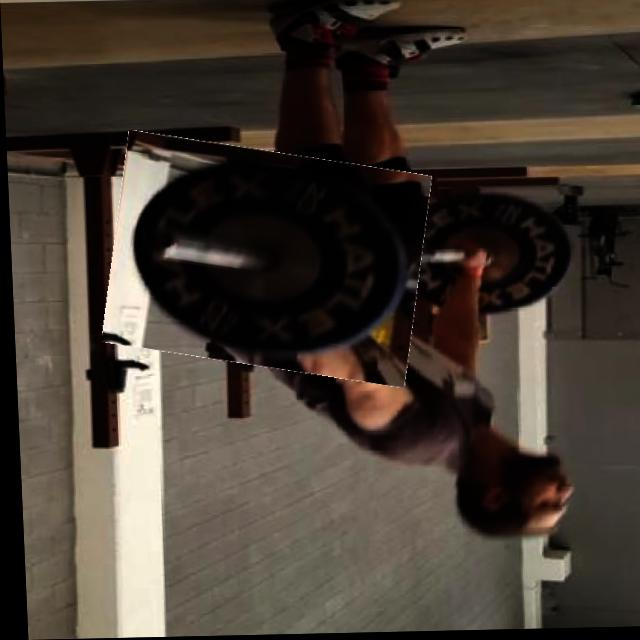barbell: (101, 139, 430, 383)
